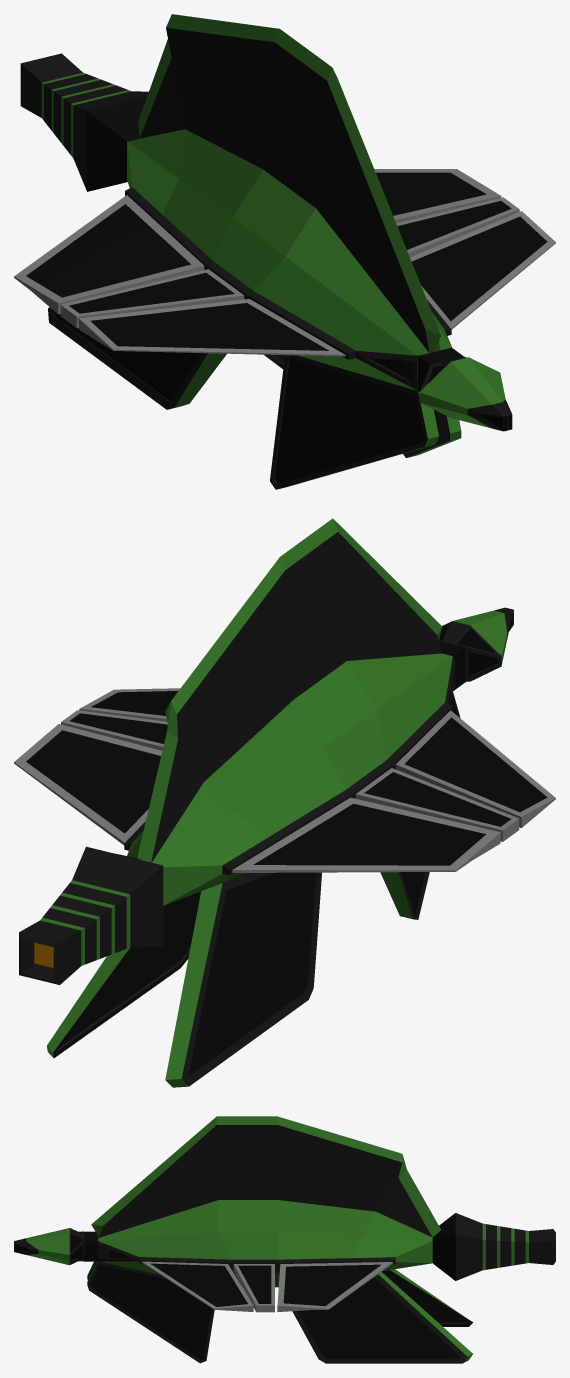
File: Spaceship.obj
3 views of the same model, one above another, from view 1: azimuth 30°, elevation 25°; view 2: azimuth 150°, elevation 25°; view 3: azimuth 270°, elevation 25° (orthographic). The views are drawn at different scales.
Visible parts, largest first — view 1: Cube; view 2: Cube; view 3: Cube.
Boxes of the visible parts, x1,y1,x2,y2 form: Cube: [14, 14, 555, 489]; Cube: [14, 518, 555, 1087]; Cube: [14, 1116, 555, 1363].
Size of the model in its own units: 3.9 by 3.32 by 7.17.
